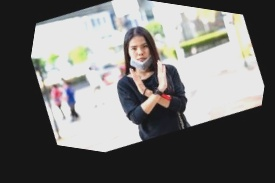mask_weared_incorrect: (125, 33, 154, 72)
